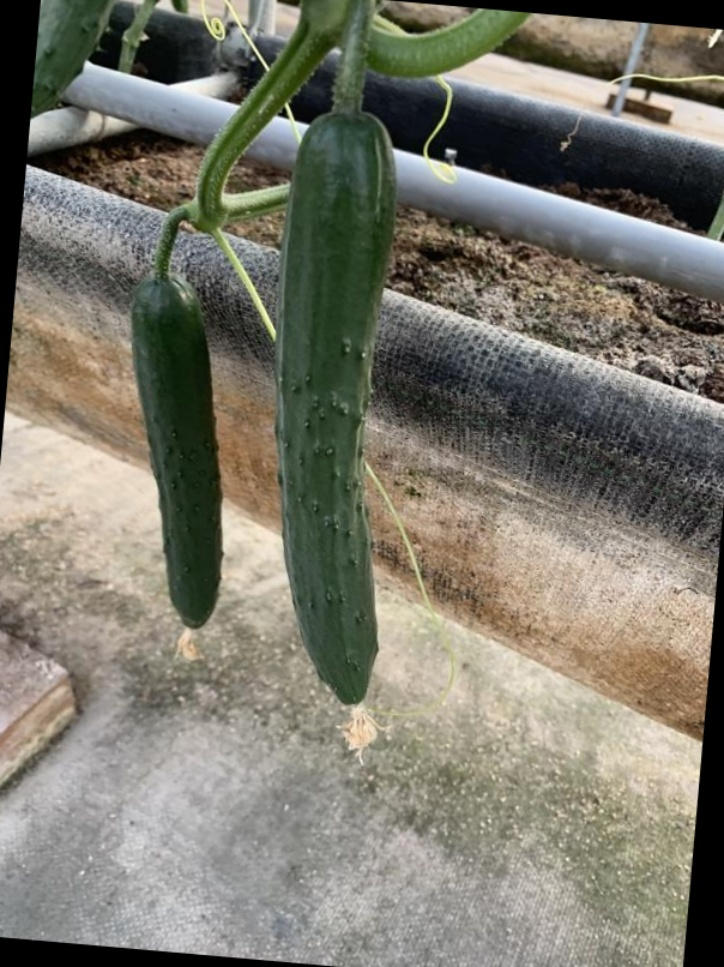mature: (280, 111, 398, 714), (119, 271, 232, 648)
